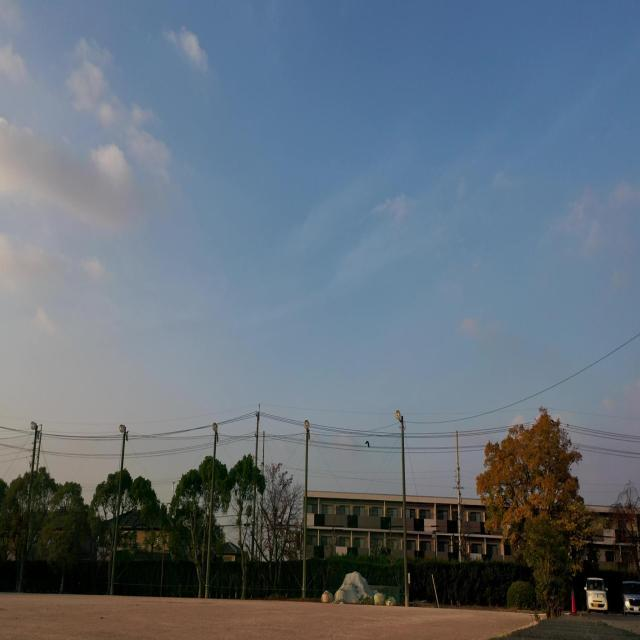Birds: (363, 437, 373, 450)
